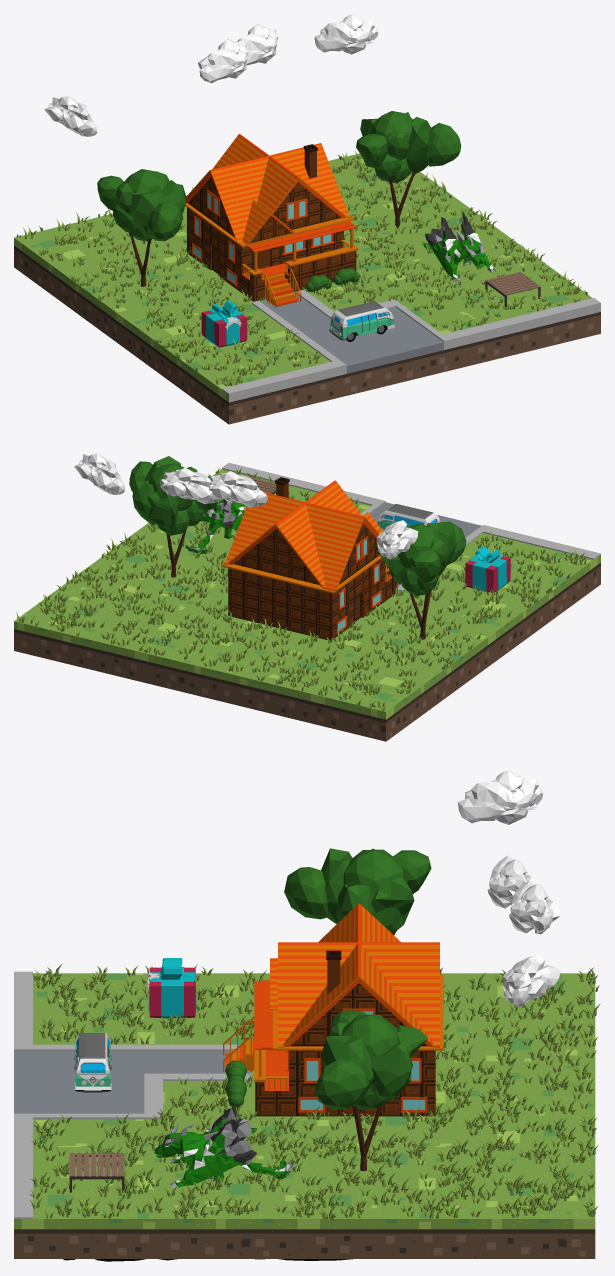
3 renders of one model, top to bottom at view 1: azimuth 30°, elevation 25°; view 2: azimuth 150°, elevation 25°; view 3: azimuth 270°, elevation 25°, orthographic. The views are drawn at different scales.
Parts seen in each view (by area): view 1: Cube.006, Cube, Circle.012_Grass_0.192, Cube.007, tree, tree.001, ANIMAL_DRAGON, VEHICLES_VAN, OBJRANDOM_GIANT_PRESENT, Cube.009; view 2: Cube.006, Cube, Circle.012_Grass_0.192, Cube.007, tree.001, tree, OBJRANDOM_GIANT_PRESENT, ANIMAL_DRAGON, VEHICLES_VAN; view 3: Cube.006, Circle.012_Grass_0.192, Cube, tree, Cube.007, tree.001, ANIMAL_DRAGON, OBJRANDOM_GIANT_PRESENT, VEHICLES_VAN, Cube.009.
Boxes of the visible parts, x1,y1,x2,y2 form: Cube.006: [14, 153, 600, 424]; Cube: [185, 134, 358, 307]; Circle.012_Grass_0.192: [16, 151, 587, 386]; Cube.007: [44, 14, 378, 136]; tree: [356, 111, 460, 228]; tree.001: [97, 169, 186, 286]; ANIMAL_DRAGON: [424, 212, 495, 281]; VEHICLES_VAN: [329, 301, 395, 341]; OBJRANDOM_GIANT_PRESENT: [201, 300, 247, 347]; Cube.009: [485, 272, 540, 306]; Cube.006: [14, 463, 600, 741]; Cube: [221, 477, 397, 640]; Circle.012_Grass_0.192: [16, 468, 587, 711]; Cube.007: [74, 453, 418, 559]; tree.001: [374, 521, 466, 639]; tree: [129, 456, 216, 577]; OBJRANDOM_GIANT_PRESENT: [465, 546, 510, 592]; ANIMAL_DRAGON: [185, 499, 244, 553]; VEHICLES_VAN: [377, 504, 440, 530]; Cube.006: [14, 971, 595, 1258]; Circle.012_Grass_0.192: [29, 963, 600, 1220]; Cube: [223, 903, 443, 1116]; tree: [314, 1010, 427, 1171]; Cube.007: [457, 770, 560, 1007]; tree.001: [284, 848, 431, 935]; ANIMAL_DRAGON: [154, 1105, 294, 1187]; OBJRANDOM_GIANT_PRESENT: [147, 958, 196, 1018]; VEHICLES_VAN: [74, 1033, 111, 1092]; Cube.009: [69, 1152, 124, 1192].
Size of the model in its own units: 4071 by 2149 by 4040.
34 materials, 4 textured.
